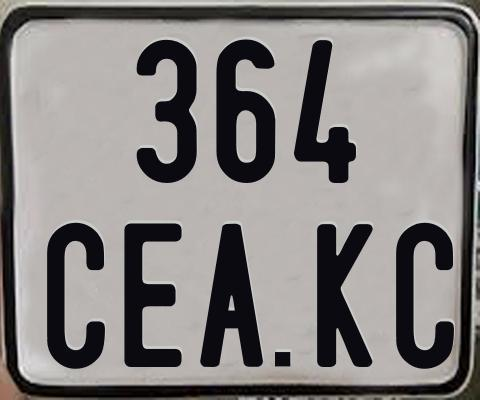3: (136, 40, 199, 189)
4: (293, 37, 358, 184)
6: (214, 39, 275, 187)
A: (199, 222, 264, 368)
C: (44, 220, 107, 371), (396, 220, 456, 366)
E: (121, 221, 181, 370)
K: (316, 221, 375, 369)
